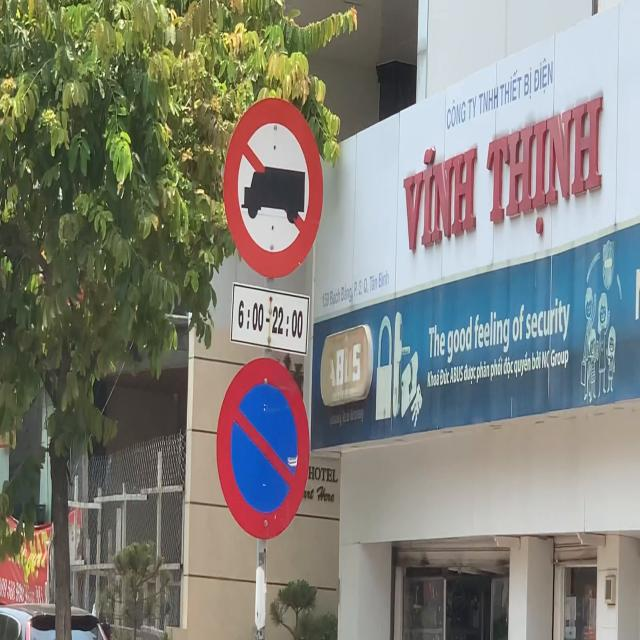Cam con lai: (222, 96, 324, 280)
Cam do: (215, 357, 311, 542)
